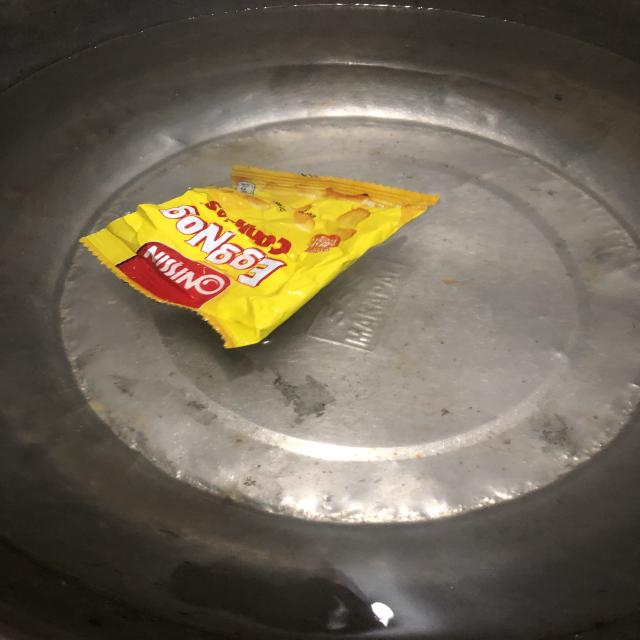Plastic Wrapper: (79, 166, 439, 348)
